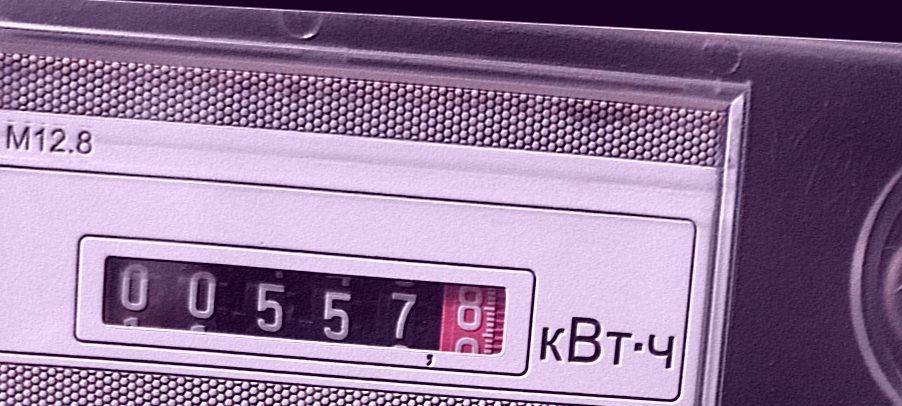0: (115, 258, 153, 316), (183, 267, 220, 321)
5: (317, 283, 357, 344), (251, 277, 288, 336)
7: (383, 286, 418, 343)
8: (454, 283, 485, 334)
screen: (67, 225, 542, 382)
